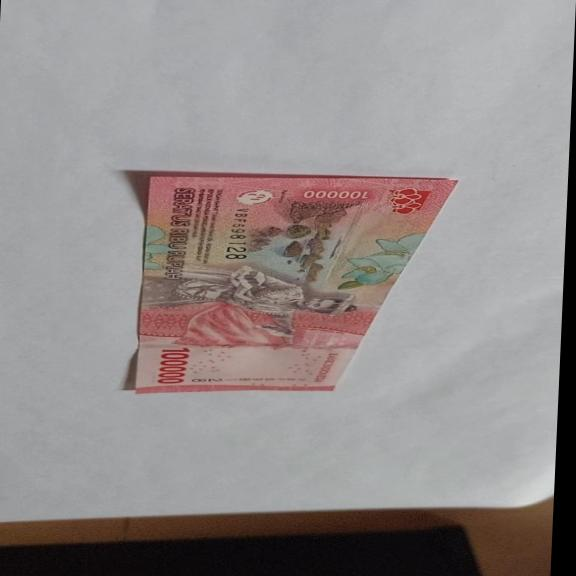Kertas: (124, 171, 460, 394)
